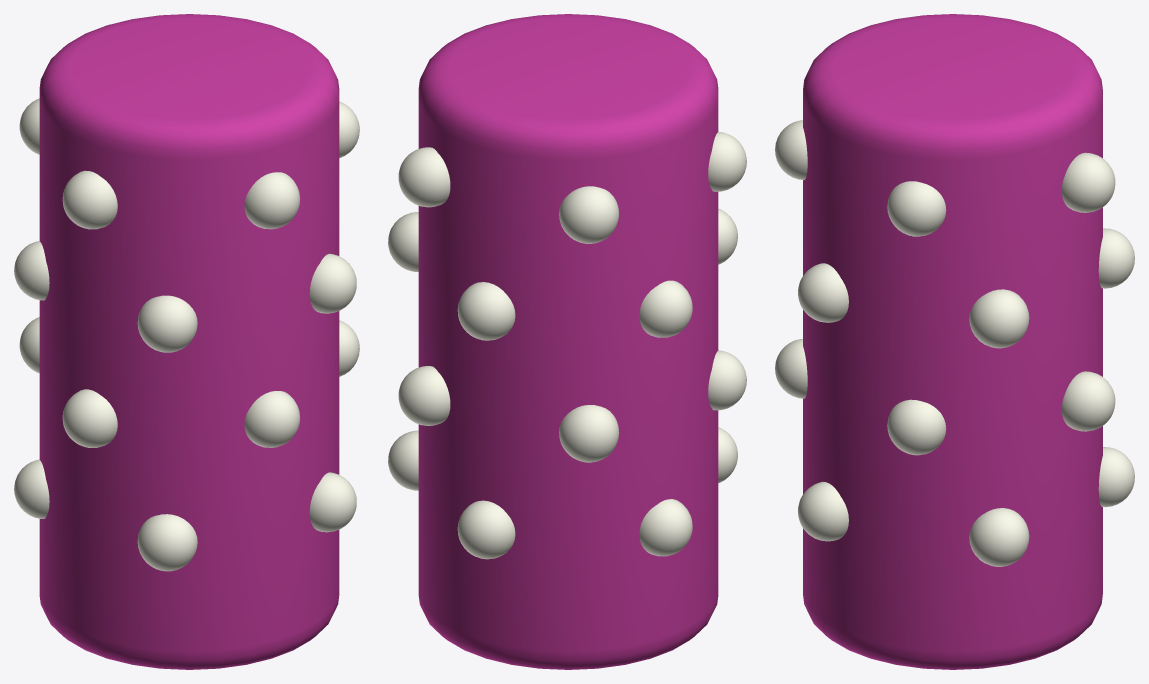
3 views of the same model, side by side, from view 1: azimuth 30°, elevation 25°; view 2: azimuth 150°, elevation 25°; view 3: azimuth 270°, elevation 25° (orthographic).
Visible parts, largest first — view 1: Cylinder; view 2: Cylinder; view 3: Cylinder.
Boxes of the visible parts, x1,y1,x2,y2 form: Cylinder: [14, 14, 359, 669]; Cylinder: [388, 14, 746, 669]; Cylinder: [775, 14, 1134, 669].
Size of the model in its own units: 5.78 by 10 by 5.97.
